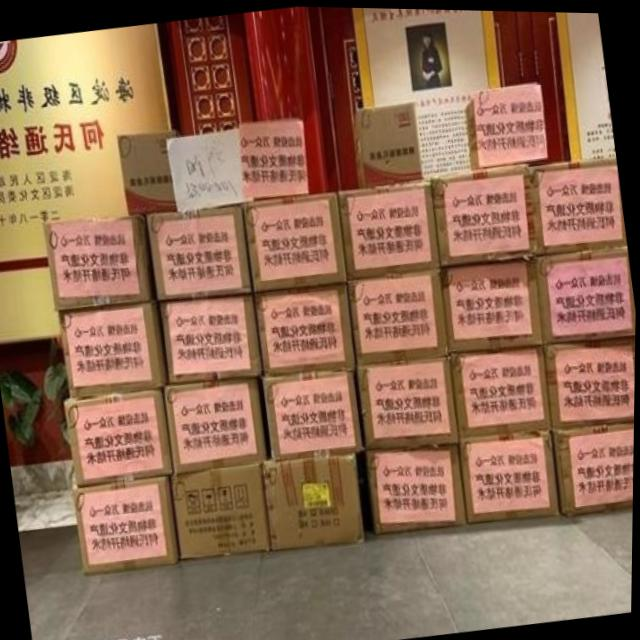box: (64, 381, 176, 488), (57, 297, 170, 395), (242, 190, 349, 293), (430, 163, 538, 265), (339, 173, 442, 279), (348, 265, 452, 368), (45, 215, 158, 309), (147, 203, 254, 302), (165, 375, 269, 476), (75, 473, 179, 573), (440, 255, 546, 353), (535, 244, 637, 345), (262, 449, 366, 547), (461, 423, 561, 523), (254, 281, 358, 377), (529, 154, 628, 254), (172, 461, 274, 558), (367, 440, 468, 536), (358, 353, 460, 448), (451, 343, 552, 436), (264, 368, 367, 457), (161, 296, 265, 384), (544, 334, 636, 425), (552, 416, 635, 510), (465, 79, 549, 168), (239, 118, 310, 206), (353, 101, 423, 187), (119, 126, 181, 215)
